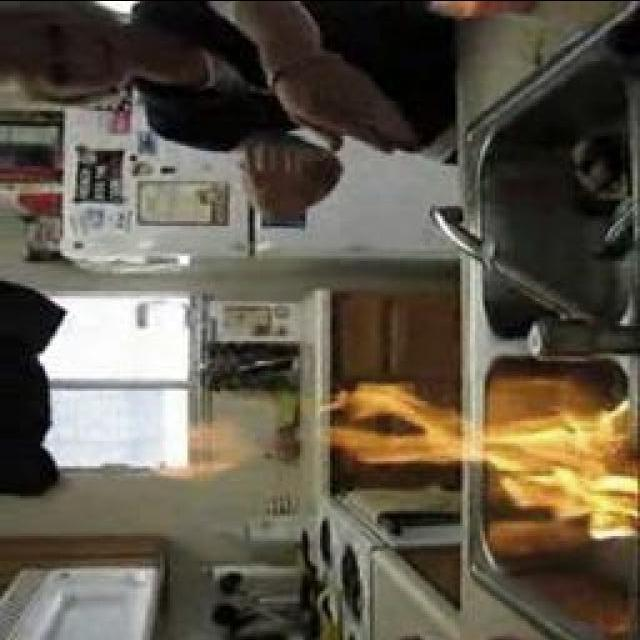Fire: (317, 383, 640, 533), (141, 400, 259, 490)
